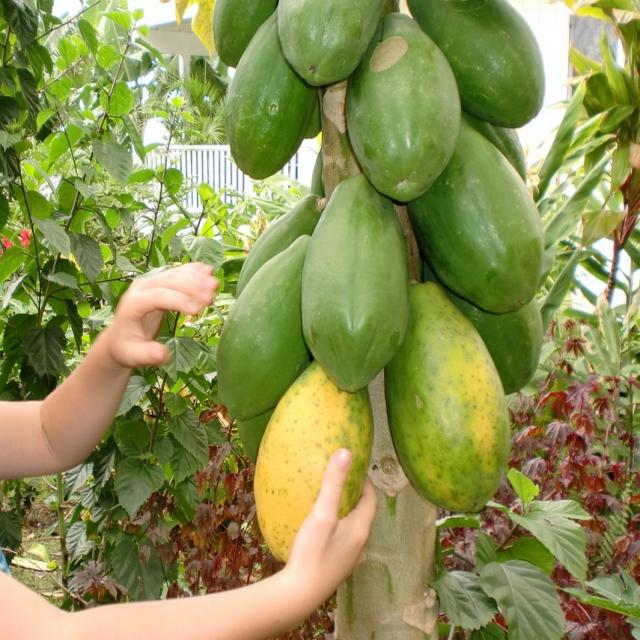Pepaya rippen: (394, 306, 509, 519), (254, 372, 368, 554)
Pepaya unrippen: (305, 178, 403, 393), (359, 24, 461, 208), (212, 238, 310, 422), (441, 142, 545, 310), (448, 5, 553, 126), (224, 41, 302, 184), (276, 2, 390, 90)
